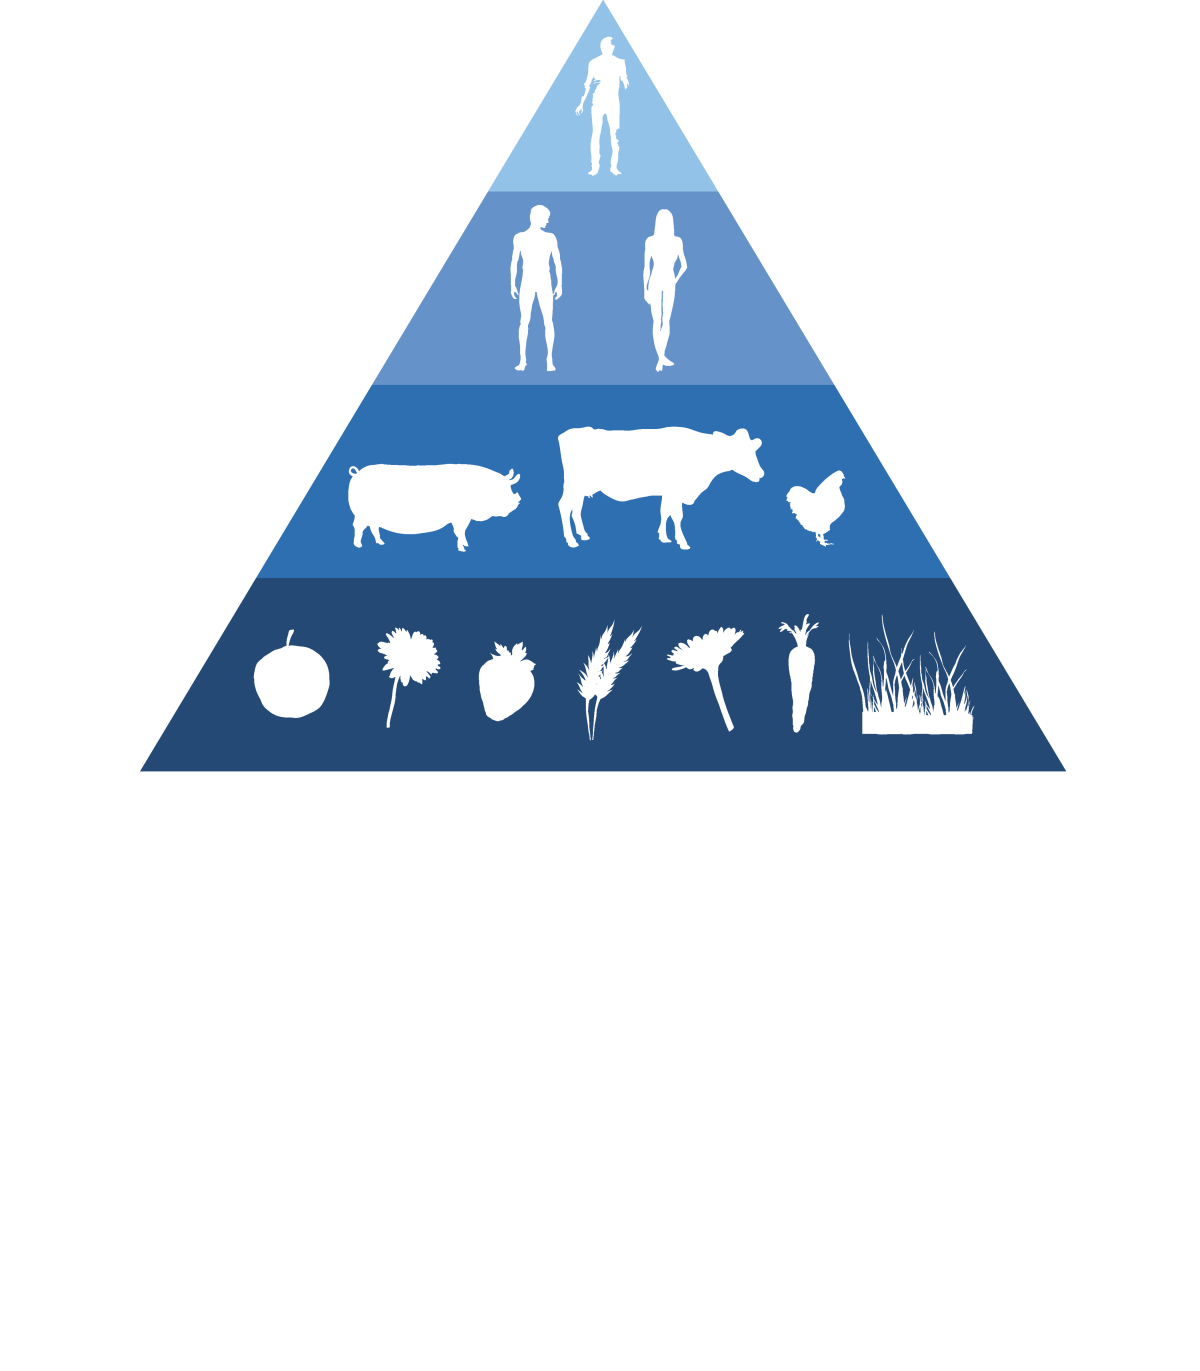design: (97, 3, 1199, 1022)
